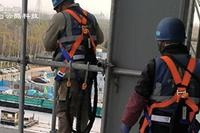safety belt: (52, 7, 98, 85), (152, 52, 197, 125)
